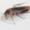cockroach: (4, 6, 30, 17)
